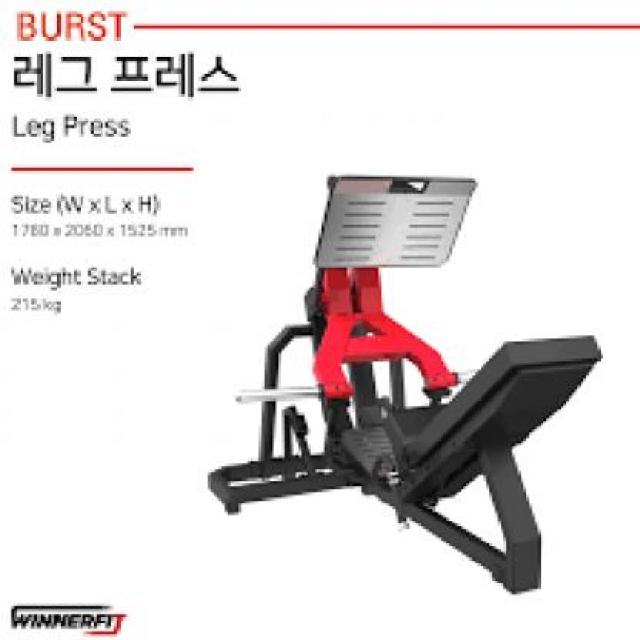leg press: (189, 148, 623, 609)
